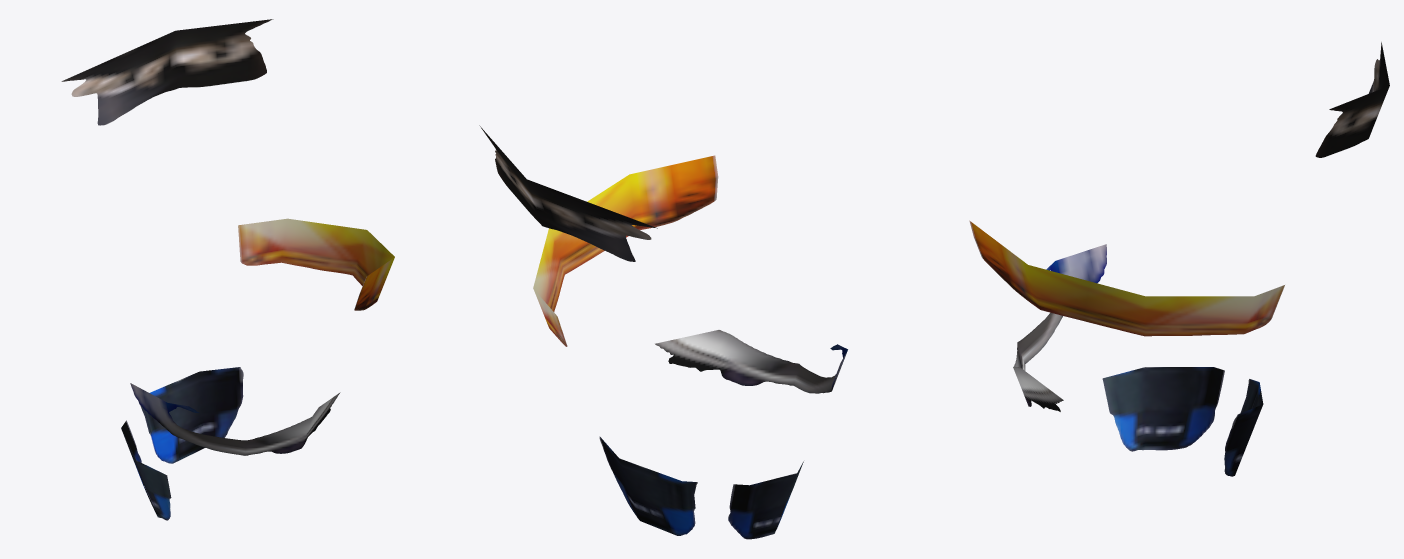
The model's file is WusiyiSkillMesh001_1.FBX.
3 renders of one model, left to right at view 1: azimuth 30°, elevation 25°; view 2: azimuth 150°, elevation 25°; view 3: azimuth 270°, elevation 25°, orthographic. The views are drawn at different scales.
Visible parts, largest first — view 1: moxing2; view 2: moxing2; view 3: moxing2.
Boxes of the visible parts, <box> form: moxing2: <box>61,19,394,520</box>; moxing2: <box>479,125,847,539</box>; moxing2: <box>969,42,1389,476</box>.
Size of the model in its own units: 171 by 189 by 152.
